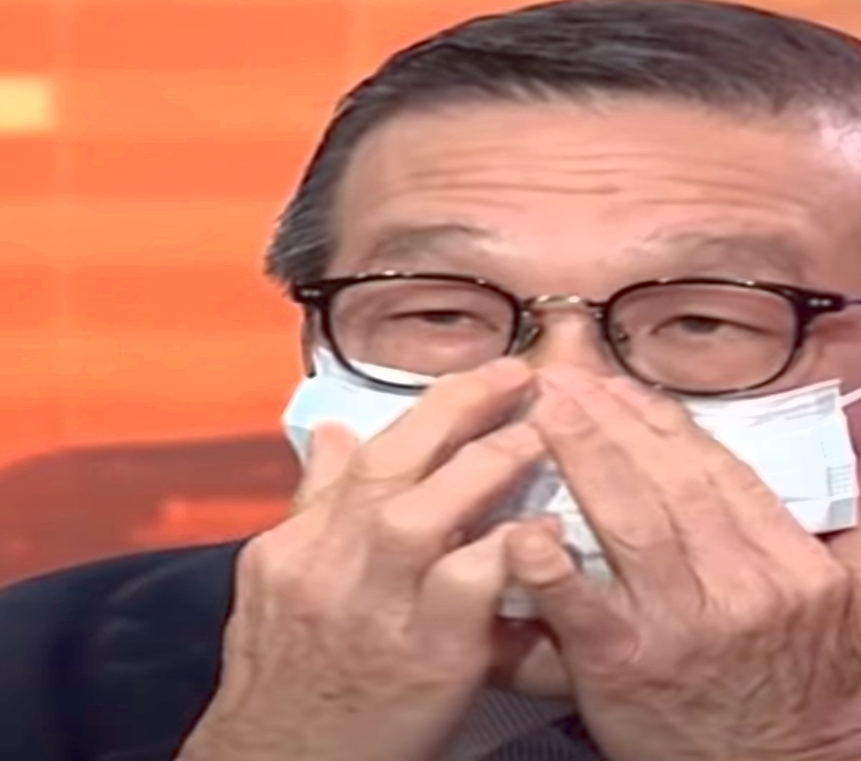mask_weared_incorrect: (281, 26, 861, 704)
